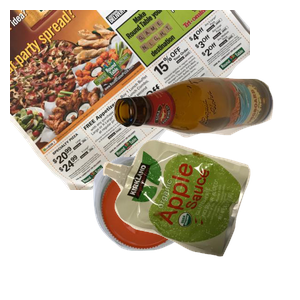glass: (111, 74, 300, 204)
paper: (10, 10, 250, 190)
plastic: (91, 152, 281, 300)
trash: (100, 137, 300, 300)
